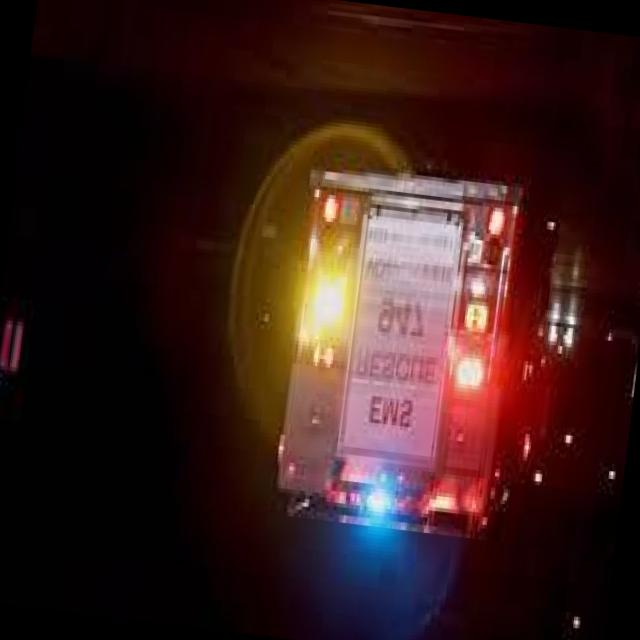ambulance: (274, 146, 536, 544)
